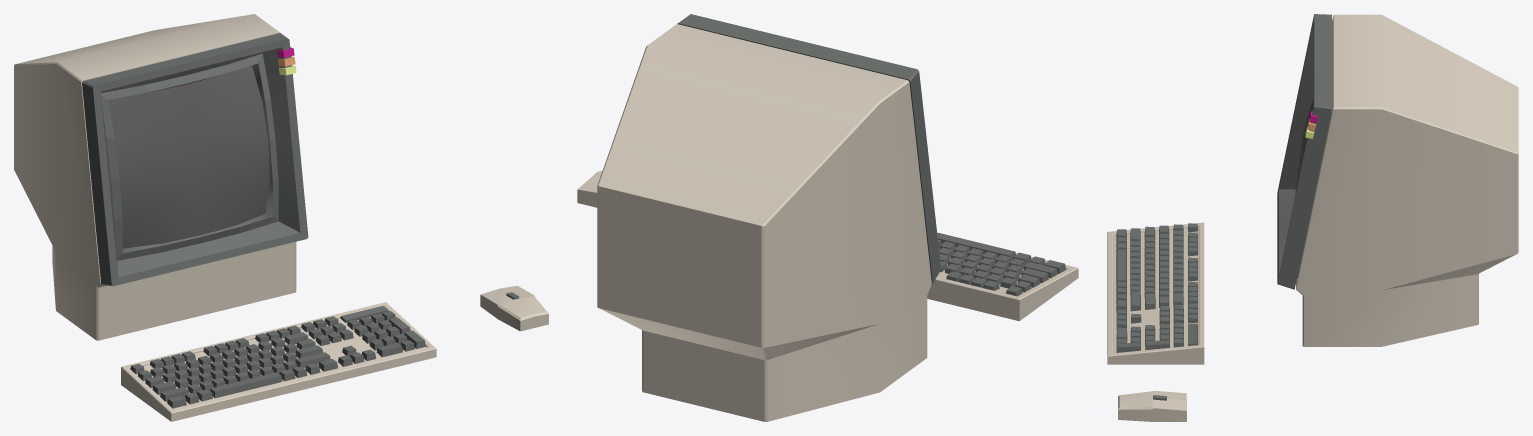
3 renders of one model, left to right at view 1: azimuth 30°, elevation 25°; view 2: azimuth 150°, elevation 25°; view 3: azimuth 270°, elevation 25°, orthographic. The views are drawn at different scales.
Visible parts, largest first — view 1: Screen, Computer_2, Keyboard, Mouse, Cube_77; view 2: Computer_2, Screen, Keyboard, Cube_77, Mouse; view 3: Computer_2, Screen, Keyboard, Mouse.
Boxes of the visible parts, x1=… form: Screen: x1=82, y1=33, x2=308, y2=286; Computer_2: x1=14, y1=14, x2=296, y2=340; Keyboard: x1=121, y1=302, x2=436, y2=421; Mouse: x1=480, y1=285, x2=548, y2=331; Cube_77: x1=210, y1=372, x2=282, y2=398; Computer_2: x1=597, y1=24, x2=931, y2=421; Screen: x1=677, y1=14, x2=941, y2=283; Keyboard: x1=927, y1=248, x2=1078, y2=321; Cube_77: x1=937, y1=232, x2=1015, y2=260; Mouse: x1=577, y1=170, x2=602, y2=207; Computer_2: x1=1296, y1=14, x2=1518, y2=346; Screen: x1=1277, y1=14, x2=1332, y2=289; Keyboard: x1=1107, y1=222, x2=1204, y2=364; Mouse: x1=1118, y1=390, x2=1186, y2=421.
Size of the model in its own units: 237 by 146 by 226.
